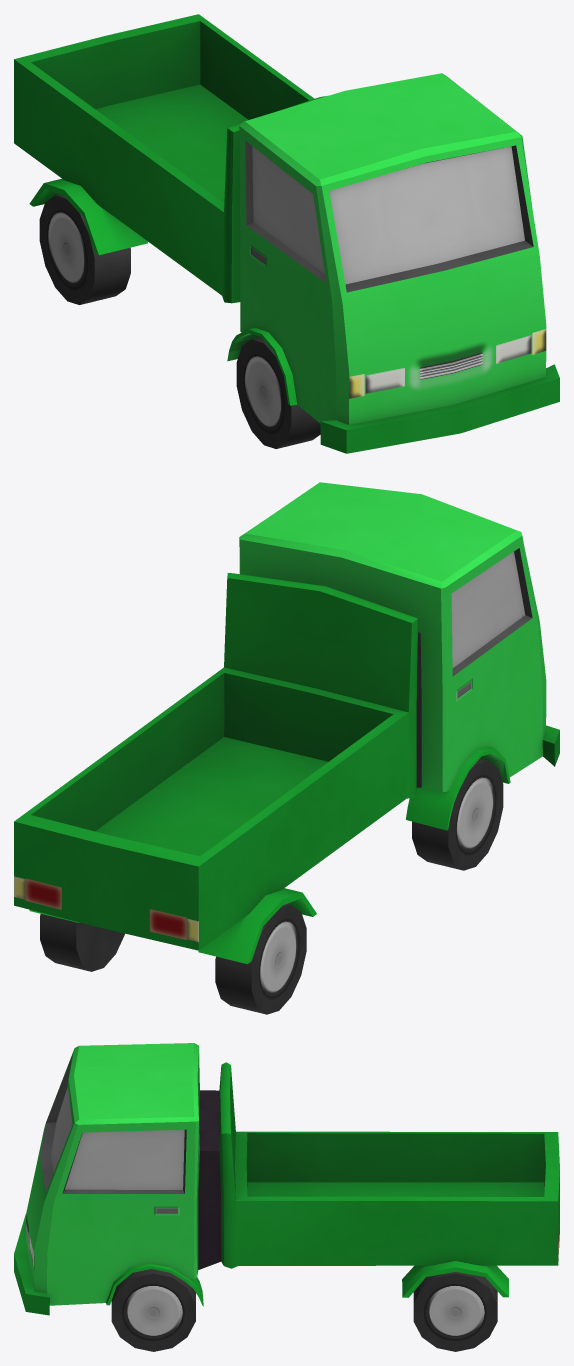
Rendered from truck.FBX.
3 views of the same model, one above another, from view 1: azimuth 30°, elevation 25°; view 2: azimuth 150°, elevation 25°; view 3: azimuth 270°, elevation 25° (orthographic). The views are drawn at different scales.
Visible parts, largest first — view 1: truck, tire_b_R, tire_f_R; view 2: truck, tire_b_R, tire_f_R, tire_b_L; view 3: truck, tire_f_L, tire_b_L.
Part boxes in pixels (bbox=[...]): truck: bbox=[14, 14, 559, 453]; tire_b_R: bbox=[39, 194, 130, 304]; tire_f_R: bbox=[236, 337, 320, 448]; truck: bbox=[14, 482, 559, 963]; tire_b_R: bbox=[215, 904, 306, 1014]; tire_f_R: bbox=[412, 759, 503, 870]; tire_b_L: bbox=[40, 914, 124, 971]; truck: bbox=[14, 1043, 559, 1315]; tire_f_L: bbox=[111, 1269, 195, 1351]; tire_b_L: bbox=[413, 1272, 497, 1351].
Size of the model in its own units: 94.6 by 120 by 249.
